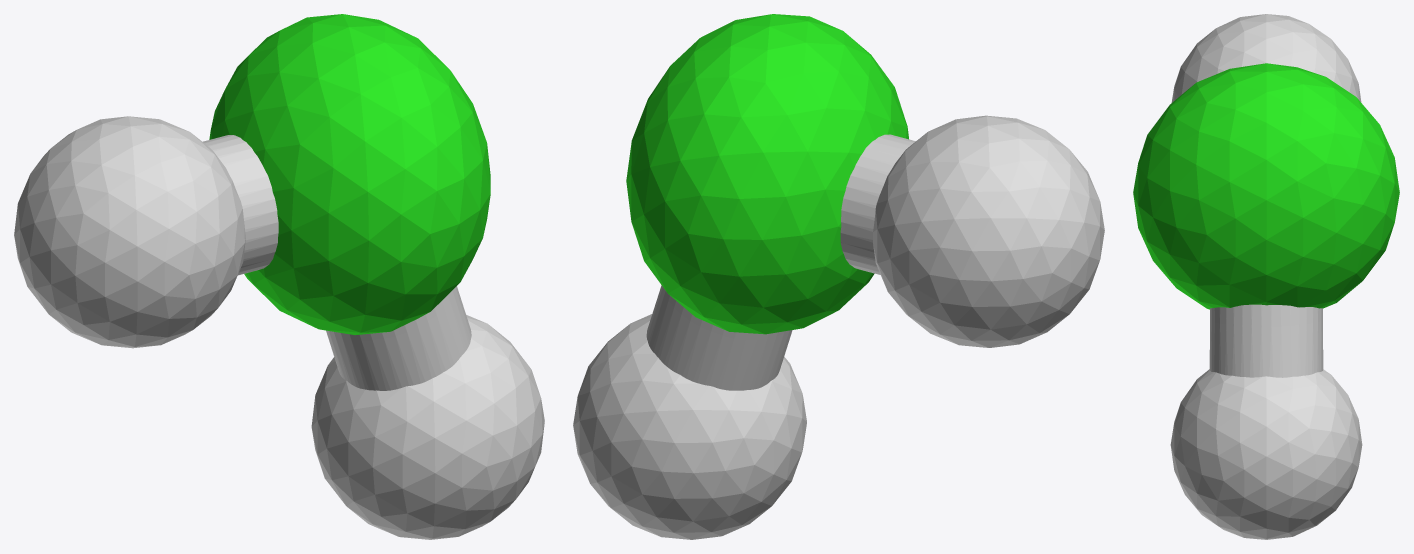
Rendered from BeH2.gltf.
The picture shows the model from 3 angles, left to right: view 1: azimuth 30°, elevation 25°; view 2: azimuth 150°, elevation 25°; view 3: azimuth 270°, elevation 25°; orthographic projection. The views are drawn at different scales.
Visible parts, largest first — view 1: Shape_IndexedFaceSet, Shape_IndexedFaceSet.001, Shape_IndexedFaceSet.002, Shape_IndexedFaceSet.005, Shape_IndexedFaceSet.008, Shape_IndexedFaceSet.003, Shape_IndexedFaceSet.007; view 2: Shape_IndexedFaceSet, Shape_IndexedFaceSet.001, Shape_IndexedFaceSet.002, Shape_IndexedFaceSet.005, Shape_IndexedFaceSet.008, Shape_IndexedFaceSet.003, Shape_IndexedFaceSet.007; view 3: Shape_IndexedFaceSet, Shape_IndexedFaceSet.002, Shape_IndexedFaceSet.001, Shape_IndexedFaceSet.005, Shape_IndexedFaceSet.003.
Boxes of the visible parts, left/top/right/bottom form: Shape_IndexedFaceSet: left=209, top=14, right=490, bottom=335; Shape_IndexedFaceSet.001: left=14, top=116, right=245, bottom=348; Shape_IndexedFaceSet.002: left=311, top=314, right=544, bottom=539; Shape_IndexedFaceSet.005: left=326, top=286, right=471, bottom=390; Shape_IndexedFaceSet.008: left=203, top=136, right=274, bottom=275; Shape_IndexedFaceSet.003: left=331, top=288, right=454, bottom=340; Shape_IndexedFaceSet.007: left=225, top=135, right=278, bottom=269; Shape_IndexedFaceSet: left=626, top=14, right=908, bottom=334; Shape_IndexedFaceSet.001: left=873, top=115, right=1104, bottom=347; Shape_IndexedFaceSet.002: left=573, top=314, right=806, bottom=539; Shape_IndexedFaceSet.005: left=646, top=285, right=792, bottom=390; Shape_IndexedFaceSet.008: left=844, top=135, right=915, bottom=274; Shape_IndexedFaceSet.003: left=663, top=287, right=786, bottom=340; Shape_IndexedFaceSet.007: left=840, top=134, right=893, bottom=269; Shape_IndexedFaceSet: left=1133, top=63, right=1399, bottom=309; Shape_IndexedFaceSet.002: left=1170, top=369, right=1362, bottom=539; Shape_IndexedFaceSet.001: left=1171, top=14, right=1361, bottom=102; Shape_IndexedFaceSet.005: left=1209, top=320, right=1323, bottom=377; Shape_IndexedFaceSet.003: left=1210, top=304, right=1322, bottom=326.
Bounding box in the file's own units: 0.183 × 0.1827 × 0.1032.
